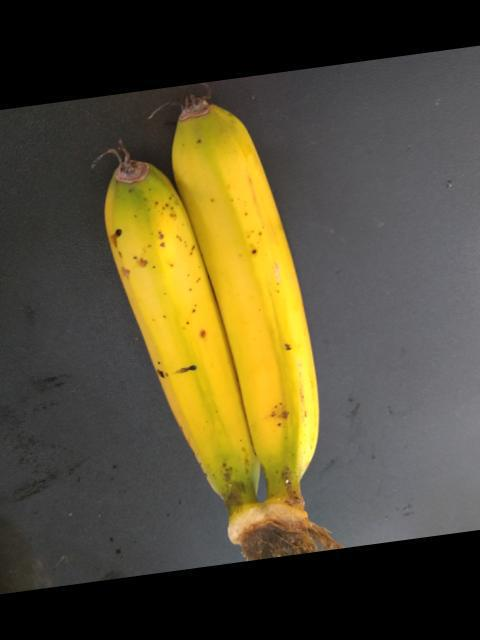freshripe: (175, 90, 320, 539)
ripe: (86, 157, 255, 529)
